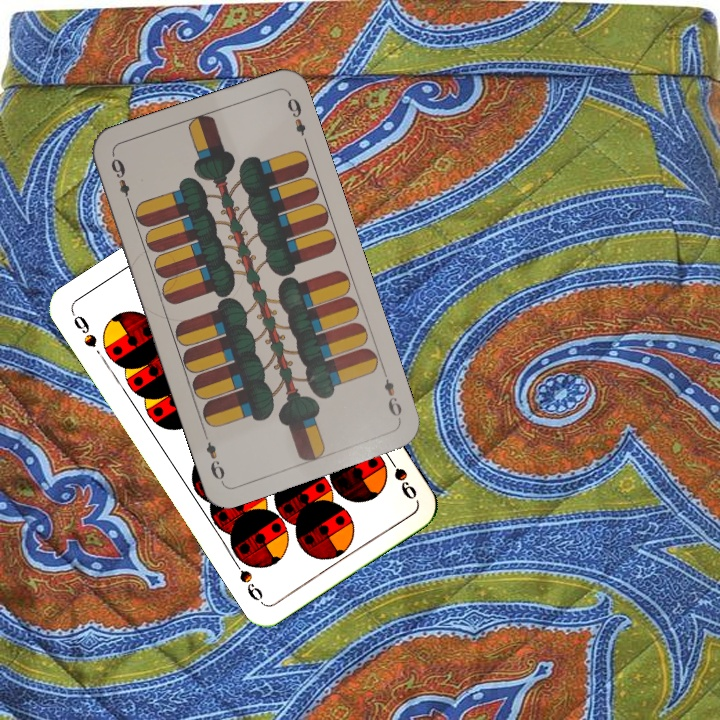E9: (379, 366, 405, 424), (107, 154, 134, 209)
S9: (382, 449, 420, 503), (67, 309, 100, 350)
